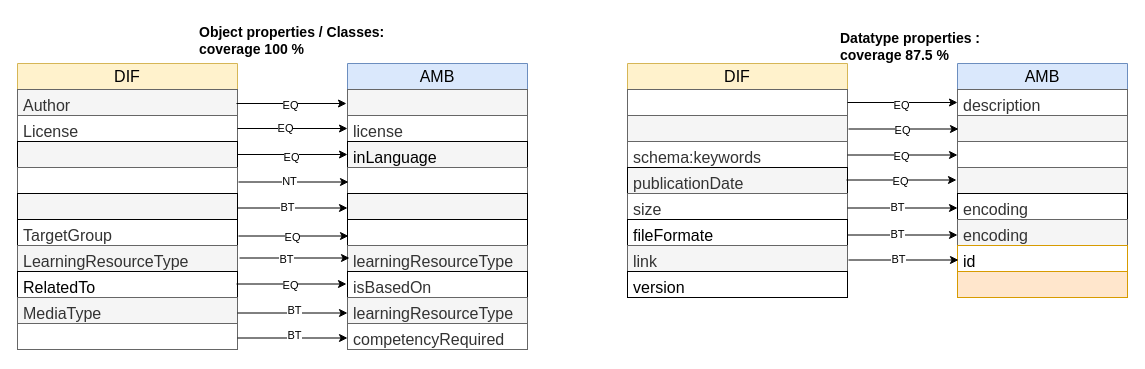
Image size: 1145x369. Some labels were removed from this diagram. The box of each missing label's shape, as (x1, y1, x2, y2) in pixels:
about: (346, 192, 528, 220)
audience: (346, 218, 528, 246)
Community: (16, 166, 238, 194)
creator: (346, 88, 528, 116)
datePublished: (956, 166, 1128, 194)
dc:description: (626, 88, 848, 116)
dc:title: (626, 114, 848, 142)
Discipline: (16, 192, 238, 220)
funder: (346, 166, 528, 194)
keywords: (956, 140, 1128, 168)
Language: (16, 140, 238, 168)
name: (956, 114, 1128, 142)
ProficiencyLevel: (16, 322, 238, 350)
